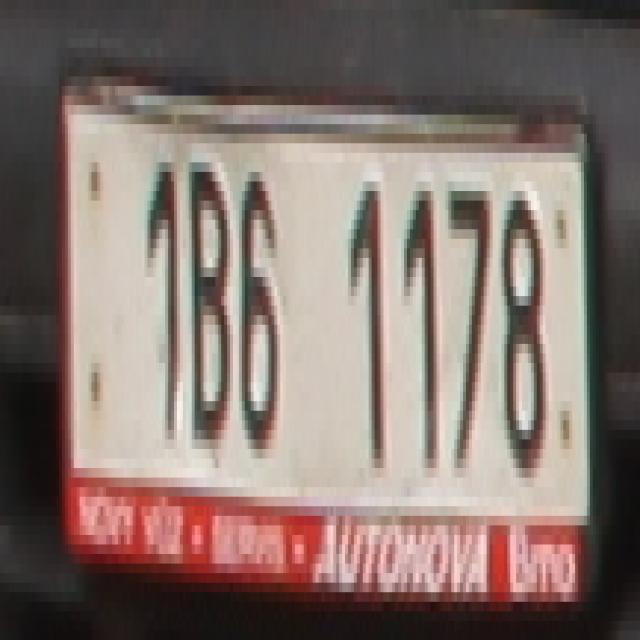1: (342, 162, 392, 478), (396, 172, 442, 478), (141, 162, 180, 458)
6: (238, 162, 280, 440)
7: (446, 172, 492, 468)
8: (498, 172, 546, 468)
B: (183, 143, 233, 449)
